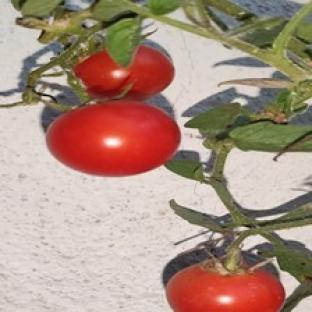Tomato: (46, 101, 181, 176), (166, 264, 285, 311), (74, 45, 174, 100)
